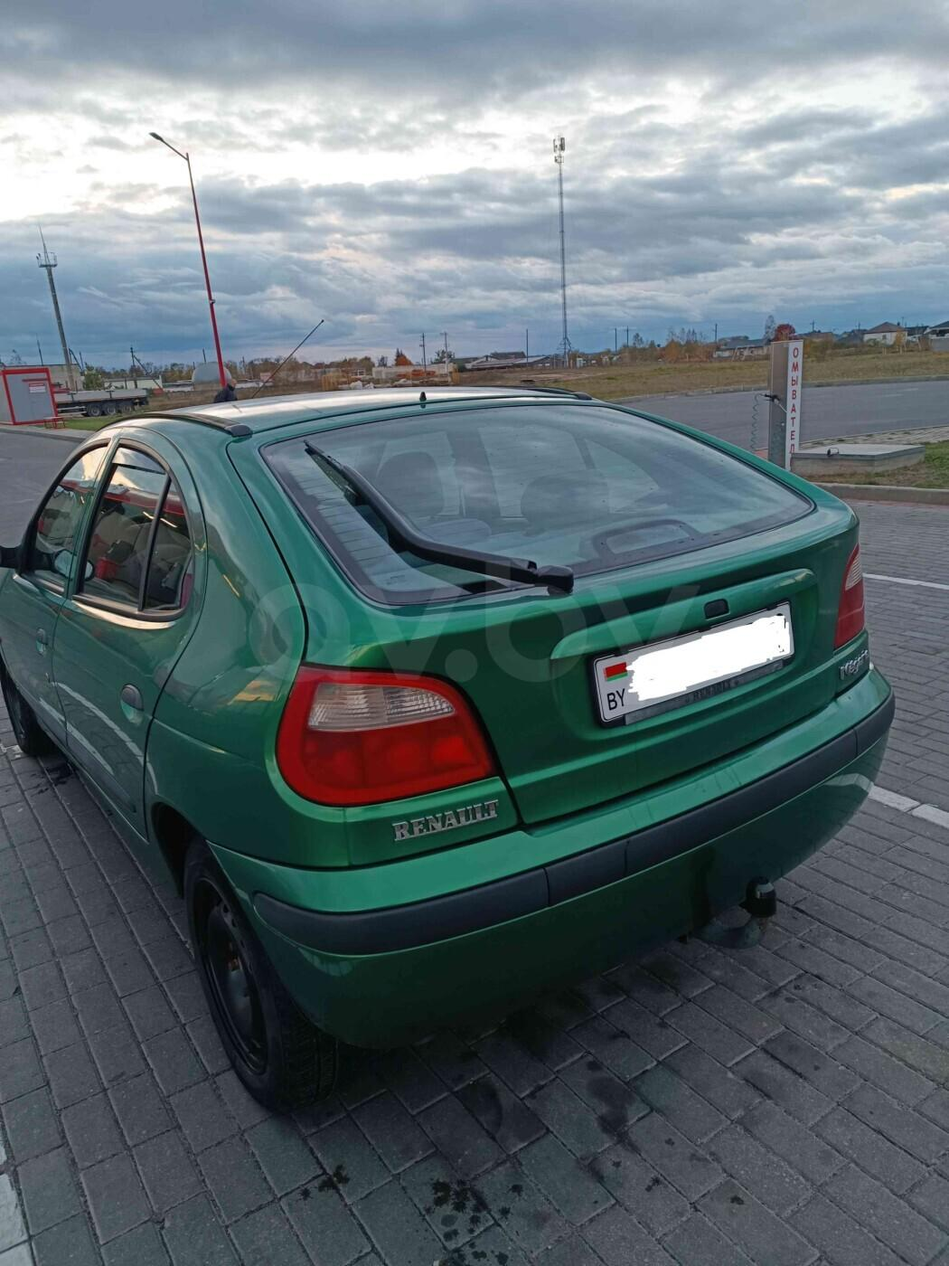Megane_1999-2003: (0, 378, 886, 1105)
